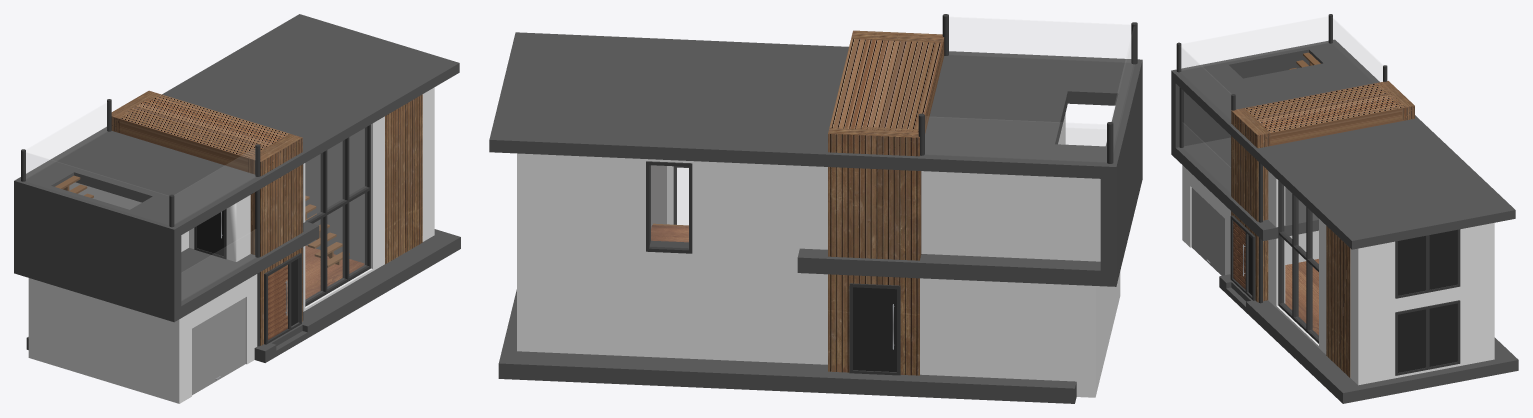
File: house.glb
3 views of the same model, side by side, from view 1: azimuth 30°, elevation 25°; view 2: azimuth 150°, elevation 25°; view 3: azimuth 270°, elevation 25° (orthographic). The views are drawn at different scales.
Visible parts, largest first — view 1: Cladding, Box012, Box009, Box091, Box011, Parter001, Box013, Box036, Parter, Box093, Box018, Box007 (+7 smaller); view 2: Cladding, Parter001, Parter, Box009, Box012, Box011, Box101, Box013, Box014; view 3: Cladding, Box009, Parter, Parter001, Box011, Box091, Box012, Box036, Box103, Box105, Box109, Box107 (+6 smaller).
Boxes of the visible parts, bbox=[...] form: Cladding: bbox=[14, 14, 459, 322]; Box012: bbox=[28, 274, 257, 403]; Box009: bbox=[111, 90, 302, 345]; Box091: bbox=[385, 94, 422, 264]; Box011: bbox=[26, 229, 460, 362]; Parter001: bbox=[69, 87, 434, 261]; Box013: bbox=[305, 128, 364, 262]; Box036: bbox=[192, 297, 245, 395]; Parter: bbox=[303, 158, 434, 311]; Box093: bbox=[305, 245, 364, 299]; Box018: bbox=[264, 253, 301, 344]; Box007: bbox=[342, 137, 349, 279]; Cladding: bbox=[489, 32, 1142, 286]; Parter001: bbox=[517, 113, 1100, 266]; Parter: bbox=[517, 173, 827, 364]; Box009: bbox=[828, 30, 944, 375]; Box012: bbox=[920, 272, 1120, 397]; Box011: bbox=[498, 289, 1076, 403]; Box101: bbox=[853, 287, 896, 371]; Box013: bbox=[651, 165, 666, 228]; Box014: bbox=[651, 225, 688, 242]; Cladding: bbox=[1171, 39, 1515, 249]; Box009: bbox=[1231, 81, 1414, 302]; Parter: bbox=[1268, 239, 1494, 385]; Parter001: bbox=[1268, 171, 1494, 317]; Box011: bbox=[1219, 274, 1518, 403]; Box091: bbox=[1326, 226, 1350, 377]; Box012: bbox=[1182, 165, 1318, 274]; Box036: bbox=[1191, 187, 1224, 275]; Box103: bbox=[1429, 303, 1457, 366]; Box105: bbox=[1398, 309, 1425, 372]; Box109: bbox=[1429, 230, 1457, 289]; Box107: bbox=[1398, 236, 1425, 295].
Size of what is drawn, in the model's own units: 15949 by 7097 by 11620.
9 materials, 3 textured.
